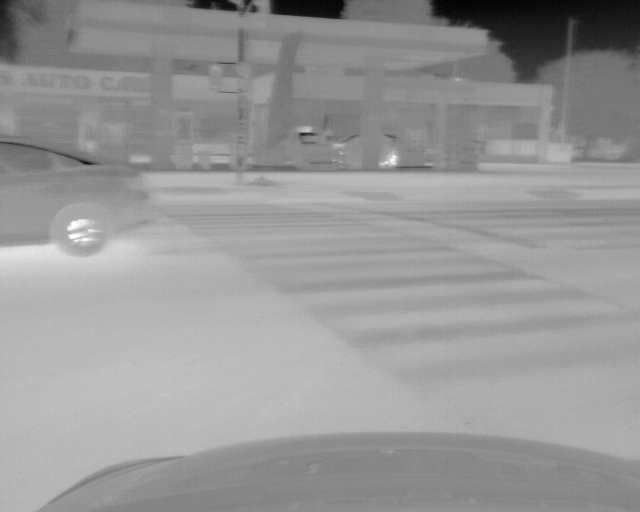car: (1, 130, 150, 258)
